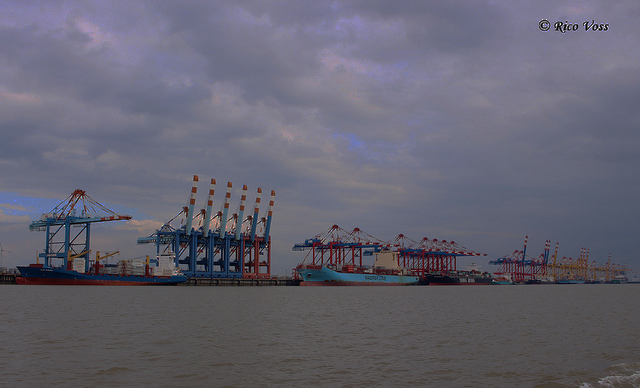bulk carrier: (15, 250, 185, 289)
container_ship: (298, 248, 422, 287), (428, 263, 489, 286), (560, 272, 585, 284), (493, 273, 516, 284)
